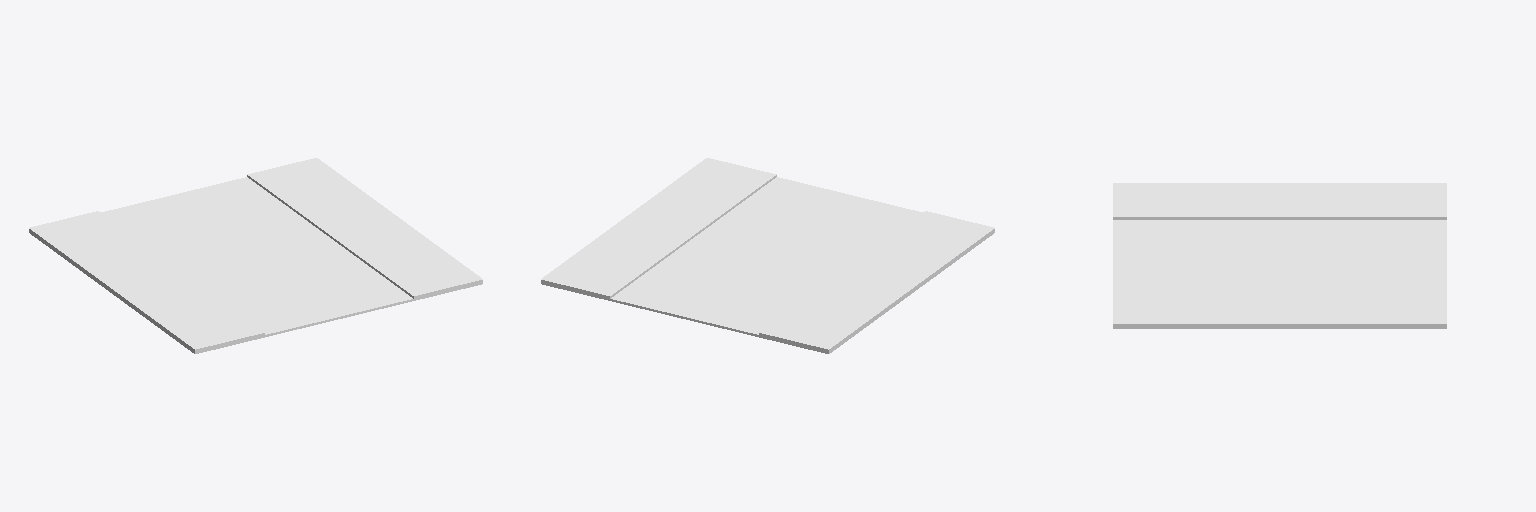
The model's file is Floor3-1.obj.
3 renders of one model, left to right at view 1: azimuth 30°, elevation 25°; view 2: azimuth 150°, elevation 25°; view 3: azimuth 270°, elevation 25°, orthographic.
Parts seen in each view (by area): view 1: Floor3-1; view 2: Floor3-1; view 3: Floor3-1.
Boxes of the visible parts, x1=… form: Floor3-1: x1=29, y1=158, x2=482, y2=353; Floor3-1: x1=541, y1=158, x2=994, y2=353; Floor3-1: x1=1113, y1=183, x2=1446, y2=328.
Size of the model in its own units: 12.8 by 0.2 by 12.8.